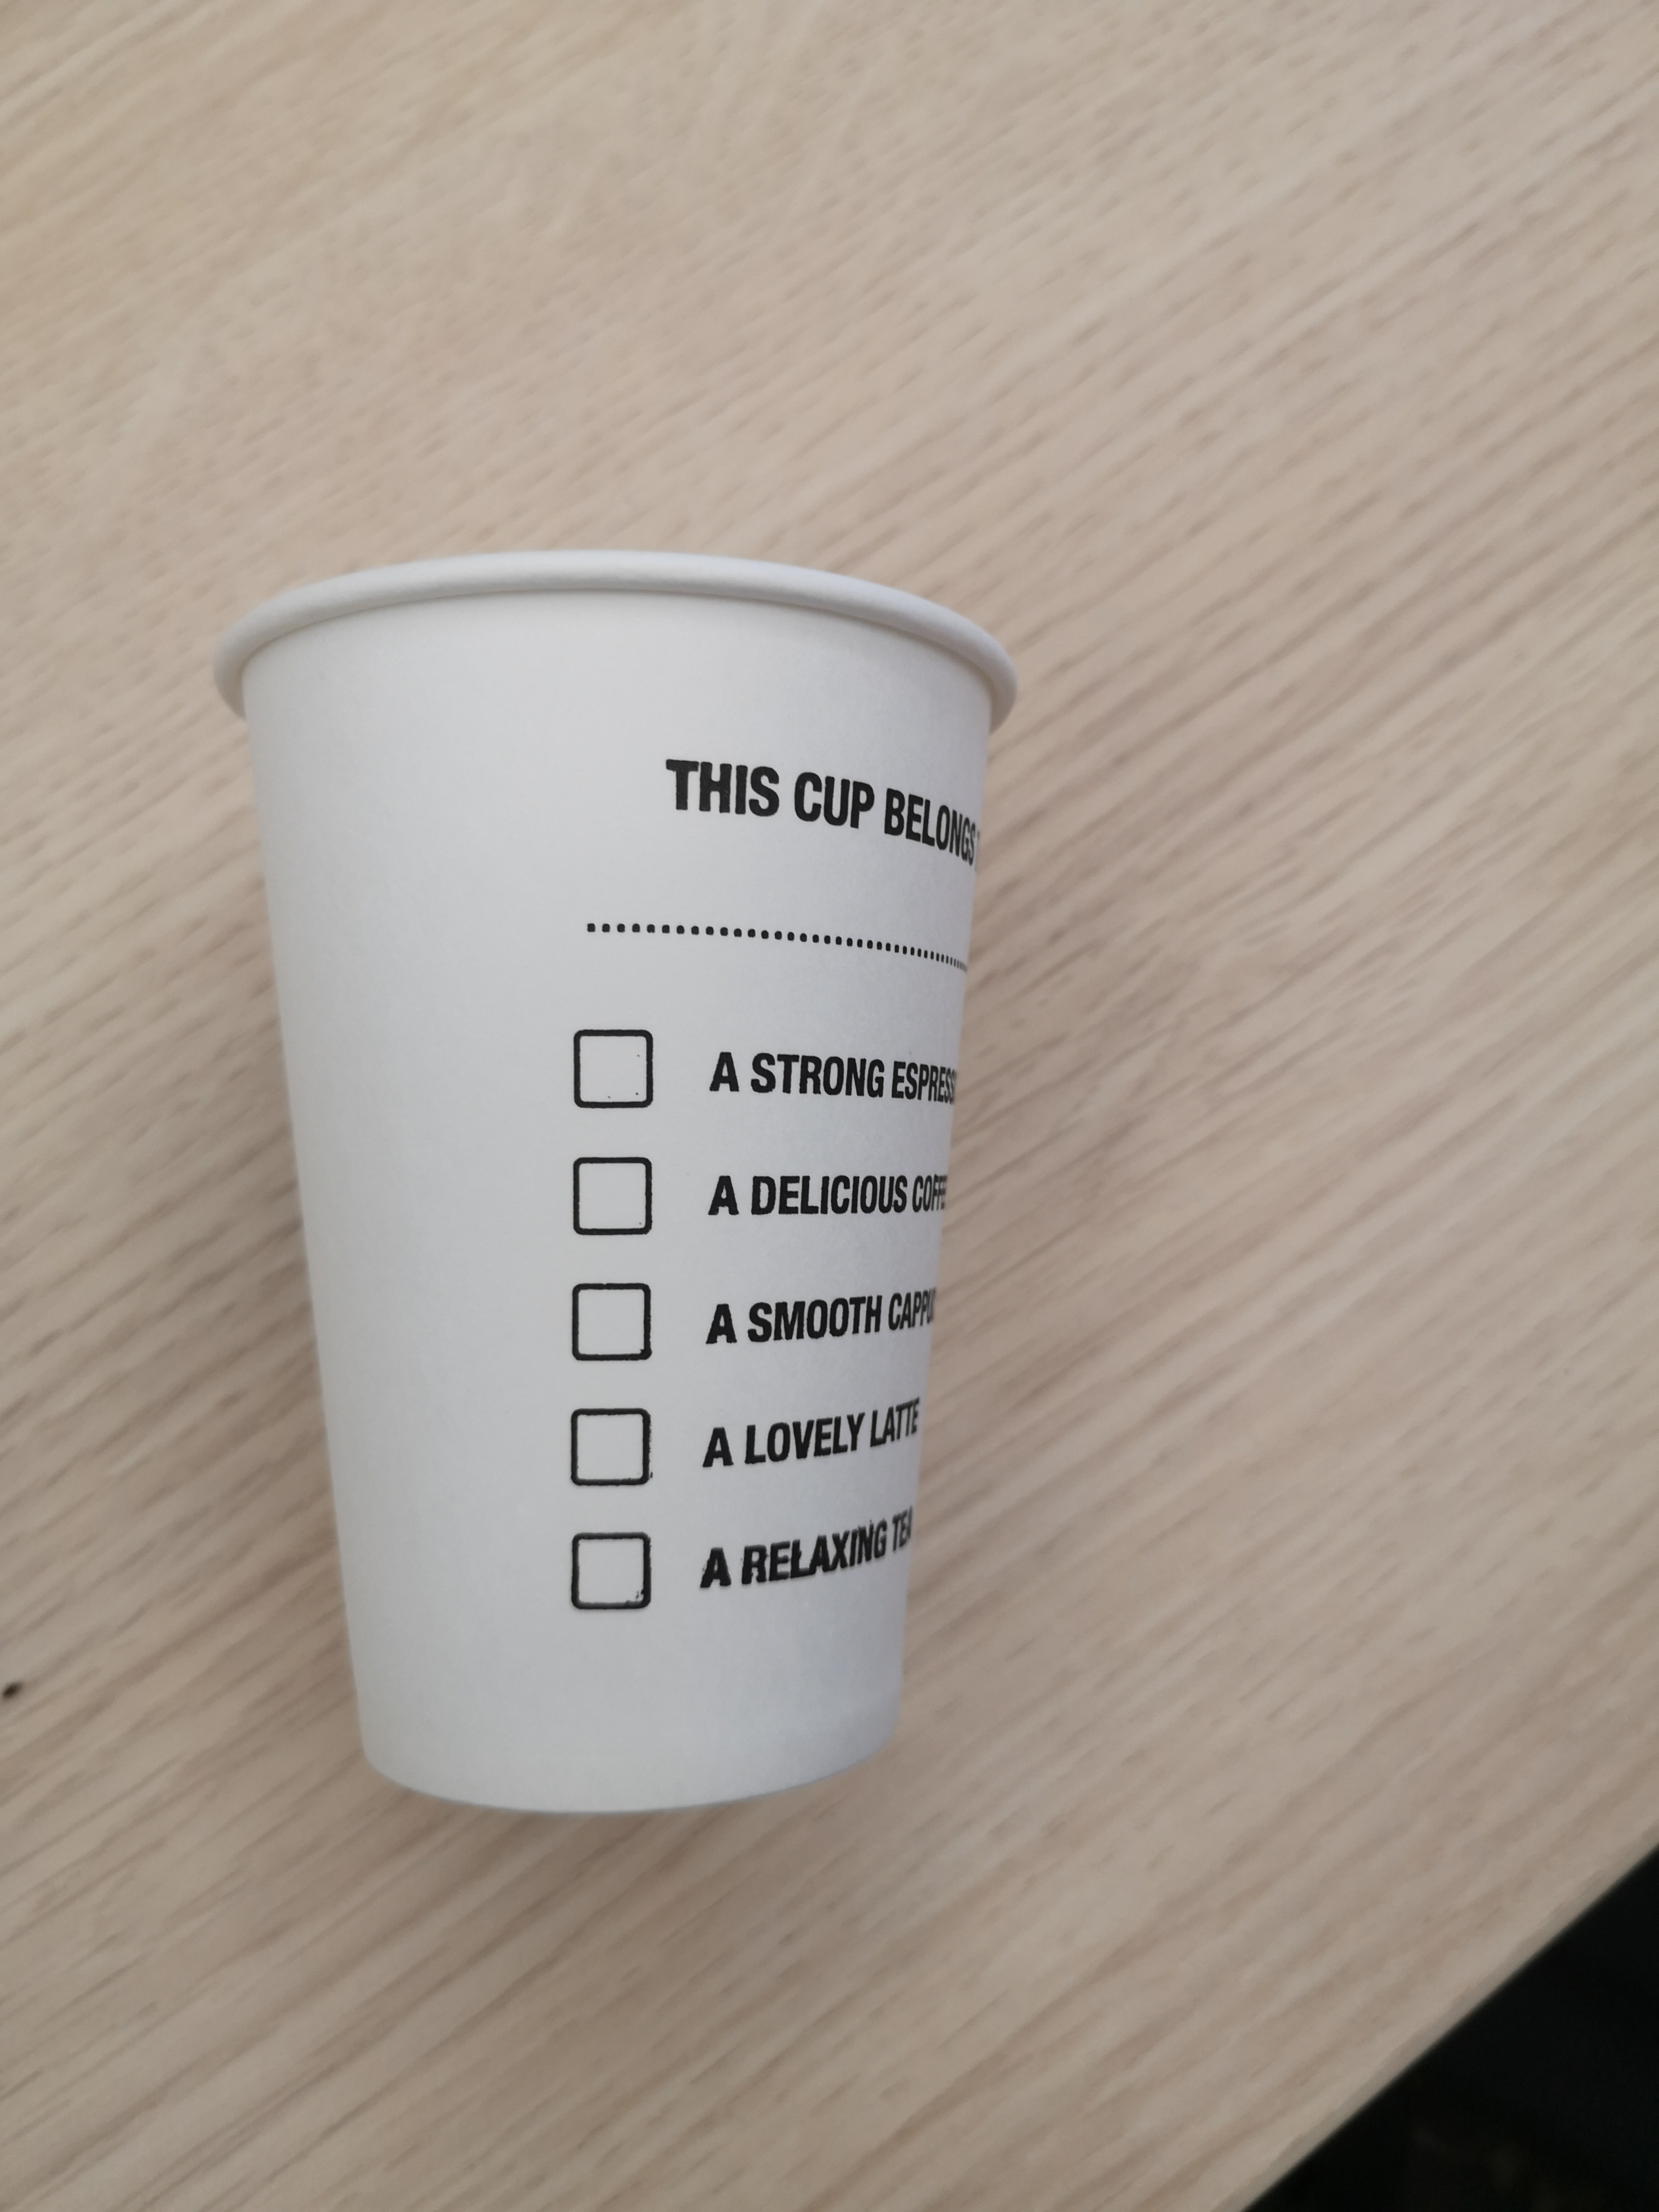cup: (181, 524, 1070, 1850)
